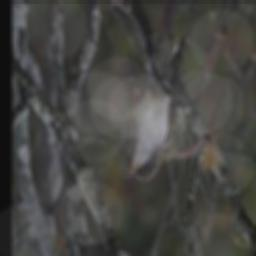Cuckoo: (121, 33, 190, 181)
